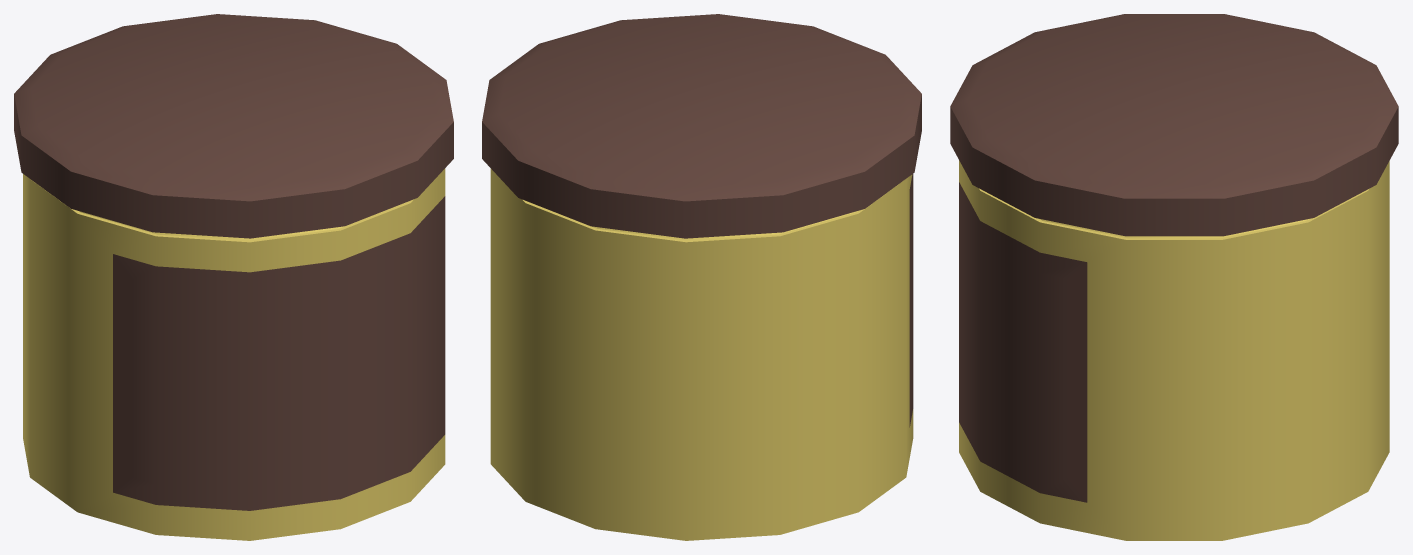
Rendered from HairGrease.fbx.
3 renders of one model, left to right at view 1: azimuth 30°, elevation 25°; view 2: azimuth 150°, elevation 25°; view 3: azimuth 270°, elevation 25°, orthographic.
Visible parts, largest first — view 1: Hair Grease, Lid; view 2: Hair Grease, Lid; view 3: Hair Grease, Lid.
Part boxes in pixels (x1,y1,x2,y2): Hair Grease: [23, 168, 445, 540]; Lid: [14, 14, 453, 238]; Hair Grease: [490, 168, 913, 540]; Lid: [482, 14, 921, 238]; Hair Grease: [959, 160, 1389, 540]; Lid: [950, 14, 1398, 236].
Size of the model in its own units: 8.86 by 7.89 by 9.09.
